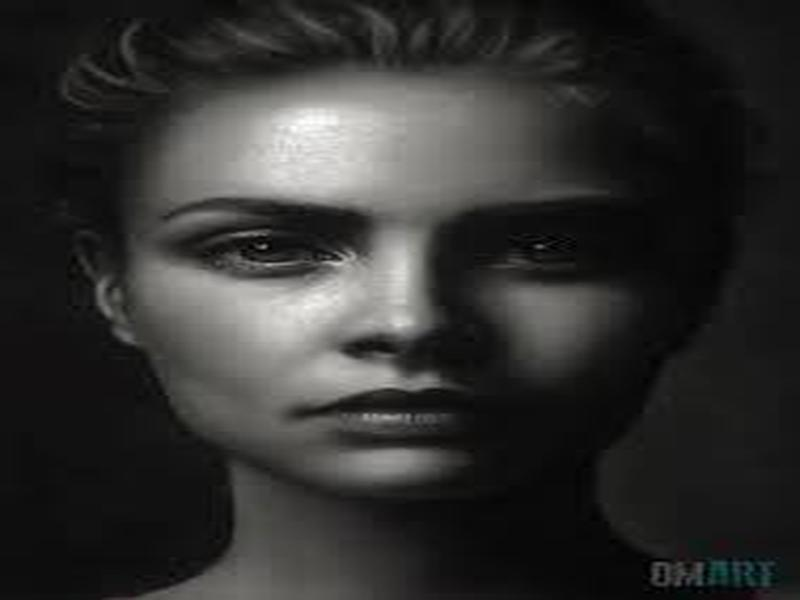without_mask: (127, 116, 666, 493)
